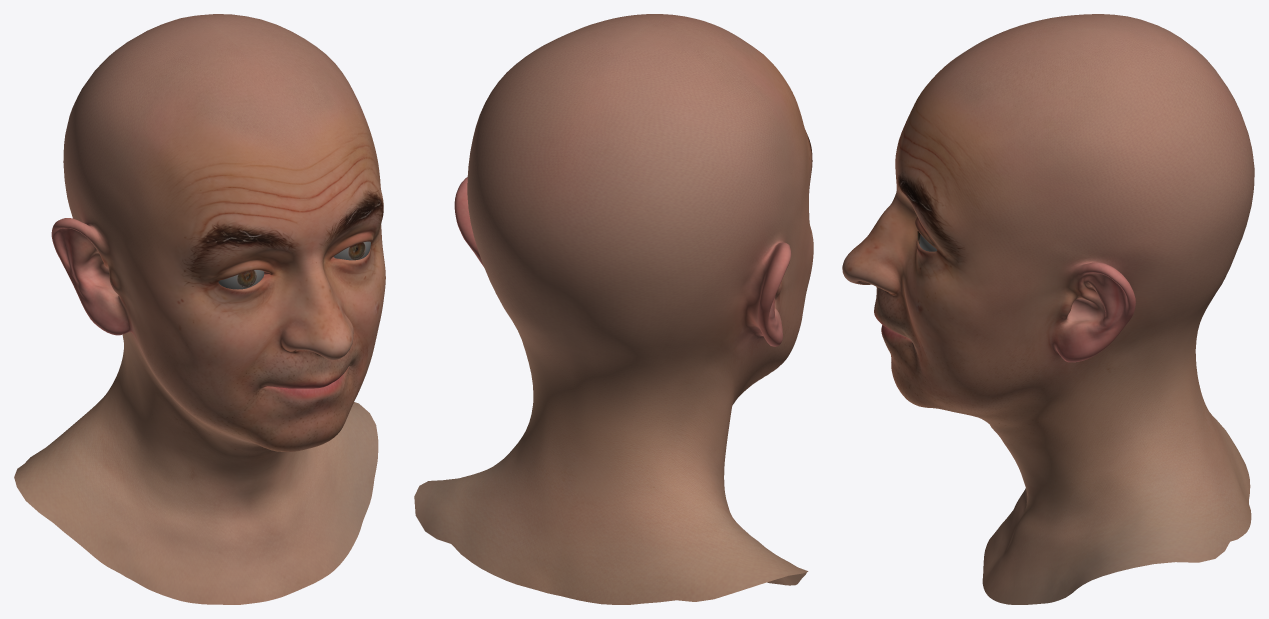
3 renders of one model, left to right at view 1: azimuth 30°, elevation 25°; view 2: azimuth 150°, elevation 25°; view 3: azimuth 270°, elevation 25°, orthographic. The views are drawn at different scales.
Visible parts, largest first — view 1: Registered head, right eye; view 2: Registered head; view 3: Registered head.
Part boxes in pixels (x1,y1,x2,y2): Registered head: (14,14,385,604); right eye: (218,270,264,289); Registered head: (414,14,813,604); Registered head: (842,14,1254,604).
Bounding box in the file's own units: 1.28 × 1.88 × 1.28.
Materials: 3 (3 with a texture image).
